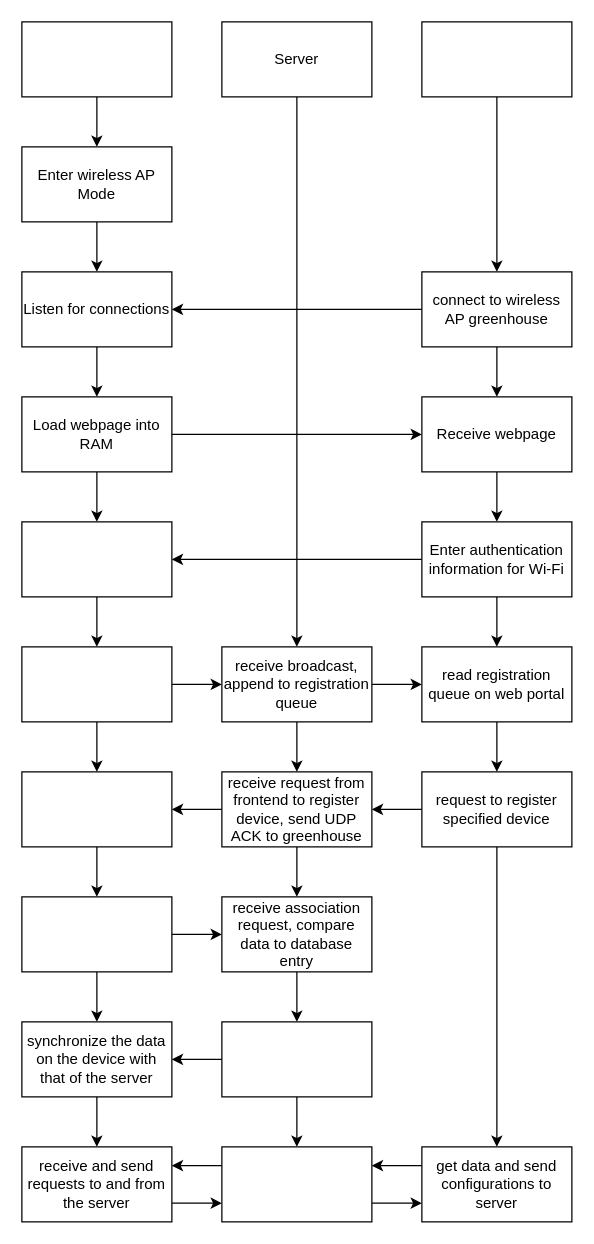
This 594x1244 diagram has some shape labels left out. Here are the shapes that lost their labels. From the top down, the box of each, then its label:
(21, 21, 172, 97): Greenhouse (microcontroller)
(421, 21, 572, 97): Client
(21, 521, 172, 597): Shutdown AP, connect to specified Wi-Fi network
(21, 646, 172, 722): Begin broadcasting to the network
(21, 771, 172, 847): receive acknowledgement with server data
(21, 896, 172, 972): send association request including device data to server
(221, 1021, 372, 1097): send sync request to the greenhouse
(221, 1146, 372, 1222): Receive and send requests to greenhouse and client
